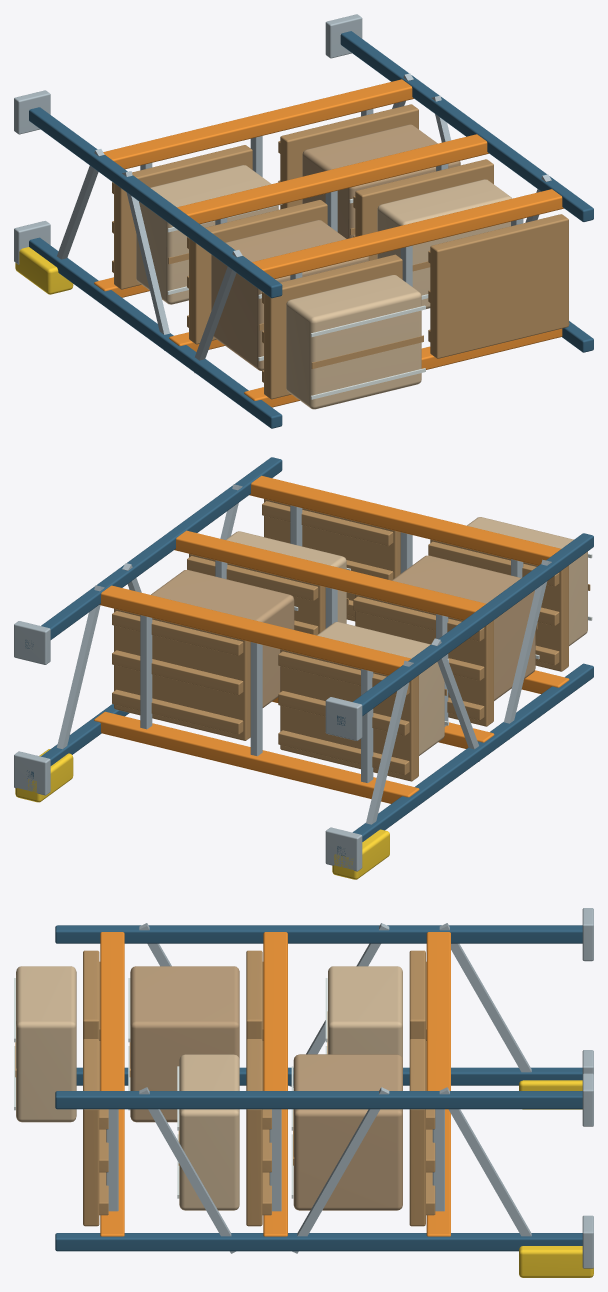
Rendered from hero_warehouse_rack.glb.
3 views of the same model, one above another, from view 1: azimuth 30°, elevation 25°; view 2: azimuth 150°, elevation 25°; view 3: azimuth 270°, elevation 25° (orthographic). The views are drawn at different scales.
Visible parts, largest first — view 1: Pallet slatted base.005, Wrapped carton load.004, Orange load beam.003, Orange load beam.005, Orange load beam.001, Wrapped carton load.002, Wrapped carton load, Rack upright.001, Rack upright, Rack upright.003, Wrapped carton load.001, Pallet slatted base.004 (+17 smaller); view 2: Pallet slatted base.001, Orange load beam.003, Orange load beam.001, Orange load beam.005, Orange load beam, Pallet slatted base, Wrapped carton load.002, Wrapped carton load.001, Rack upright.001, Rack upright, Rack upright.003, Pallet slatted base.002 (+32 smaller); view 3: Wrapped carton load.001, Wrapped carton load.002, Rack upright.003, Rack upright.002, Wrapped carton load.004, Rack upright.001, Wrapped carton load.003, Wrapped carton load, Orange load beam.003, Orange load beam.005, Orange load beam.001, Pallet slatted base.001 (+22 smaller).
Boxes of the visible parts, x1,y1,x2,y2 form: Pallet slatted base.005: (430, 214, 568, 358); Wrapped carton load.004: (286, 275, 421, 409); Orange load beam.003: (177, 134, 488, 224); Orange load beam.005: (252, 189, 563, 278); Orange load beam.001: (103, 79, 413, 169); Wrapped carton load.002: (211, 220, 369, 370); Wrapped carton load: (136, 165, 278, 304); Rack upright.001: (29, 107, 282, 298); Rack upright: (29, 237, 282, 428); Rack upright.003: (340, 31, 593, 221); Wrapped carton load.001: (302, 124, 460, 238); Pallet slatted base.004: (264, 254, 402, 399); Pallet slatted base.001: (114, 608, 250, 740); Orange load beam.003: (174, 530, 486, 620); Orange load beam.001: (99, 585, 410, 675); Orange load beam.005: (249, 475, 560, 565); Orange load beam: (94, 711, 419, 803); Pallet slatted base: (280, 649, 418, 781); Wrapped carton load.002: (392, 555, 535, 700); Wrapped carton load.001: (151, 569, 294, 707); Rack upright.001: (337, 533, 593, 725); Rack upright: (337, 663, 593, 856); Rack upright.003: (25, 457, 282, 648); Pallet slatted base.002: (355, 594, 493, 726); Wrapped carton load.001: (293, 1054, 402, 1210); Wrapped carton load.002: (130, 966, 239, 1122); Rack upright.003: (55, 1091, 582, 1109); Rack upright.002: (55, 1233, 582, 1251); Wrapped carton load.004: (16, 966, 76, 1122); Rack upright.001: (55, 925, 582, 943); Wrapped carton load.003: (179, 1054, 239, 1210); Wrapped carton load: (328, 966, 402, 1059); Orange load beam.003: (263, 932, 287, 1090); Orange load beam.005: (100, 932, 124, 1090); Orange load beam.001: (426, 932, 450, 1090); Pallet slatted base.001: (409, 1039, 425, 1226).
Size of the model in its own units: 2.65 by 1.28 by 3.55.
